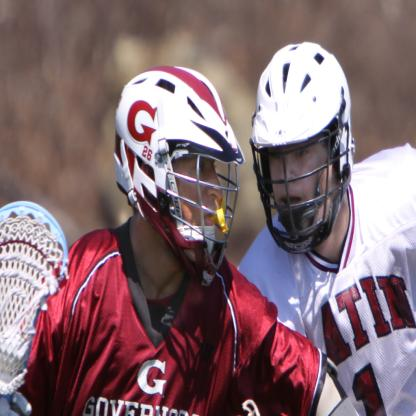Helmet: (114, 66, 246, 289), (249, 40, 355, 254)
